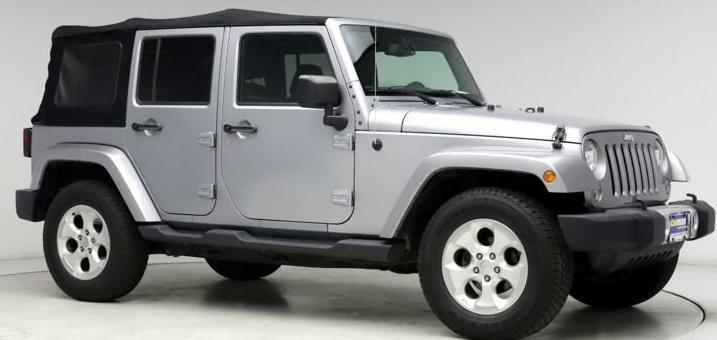SUV: (18, 11, 717, 340)
